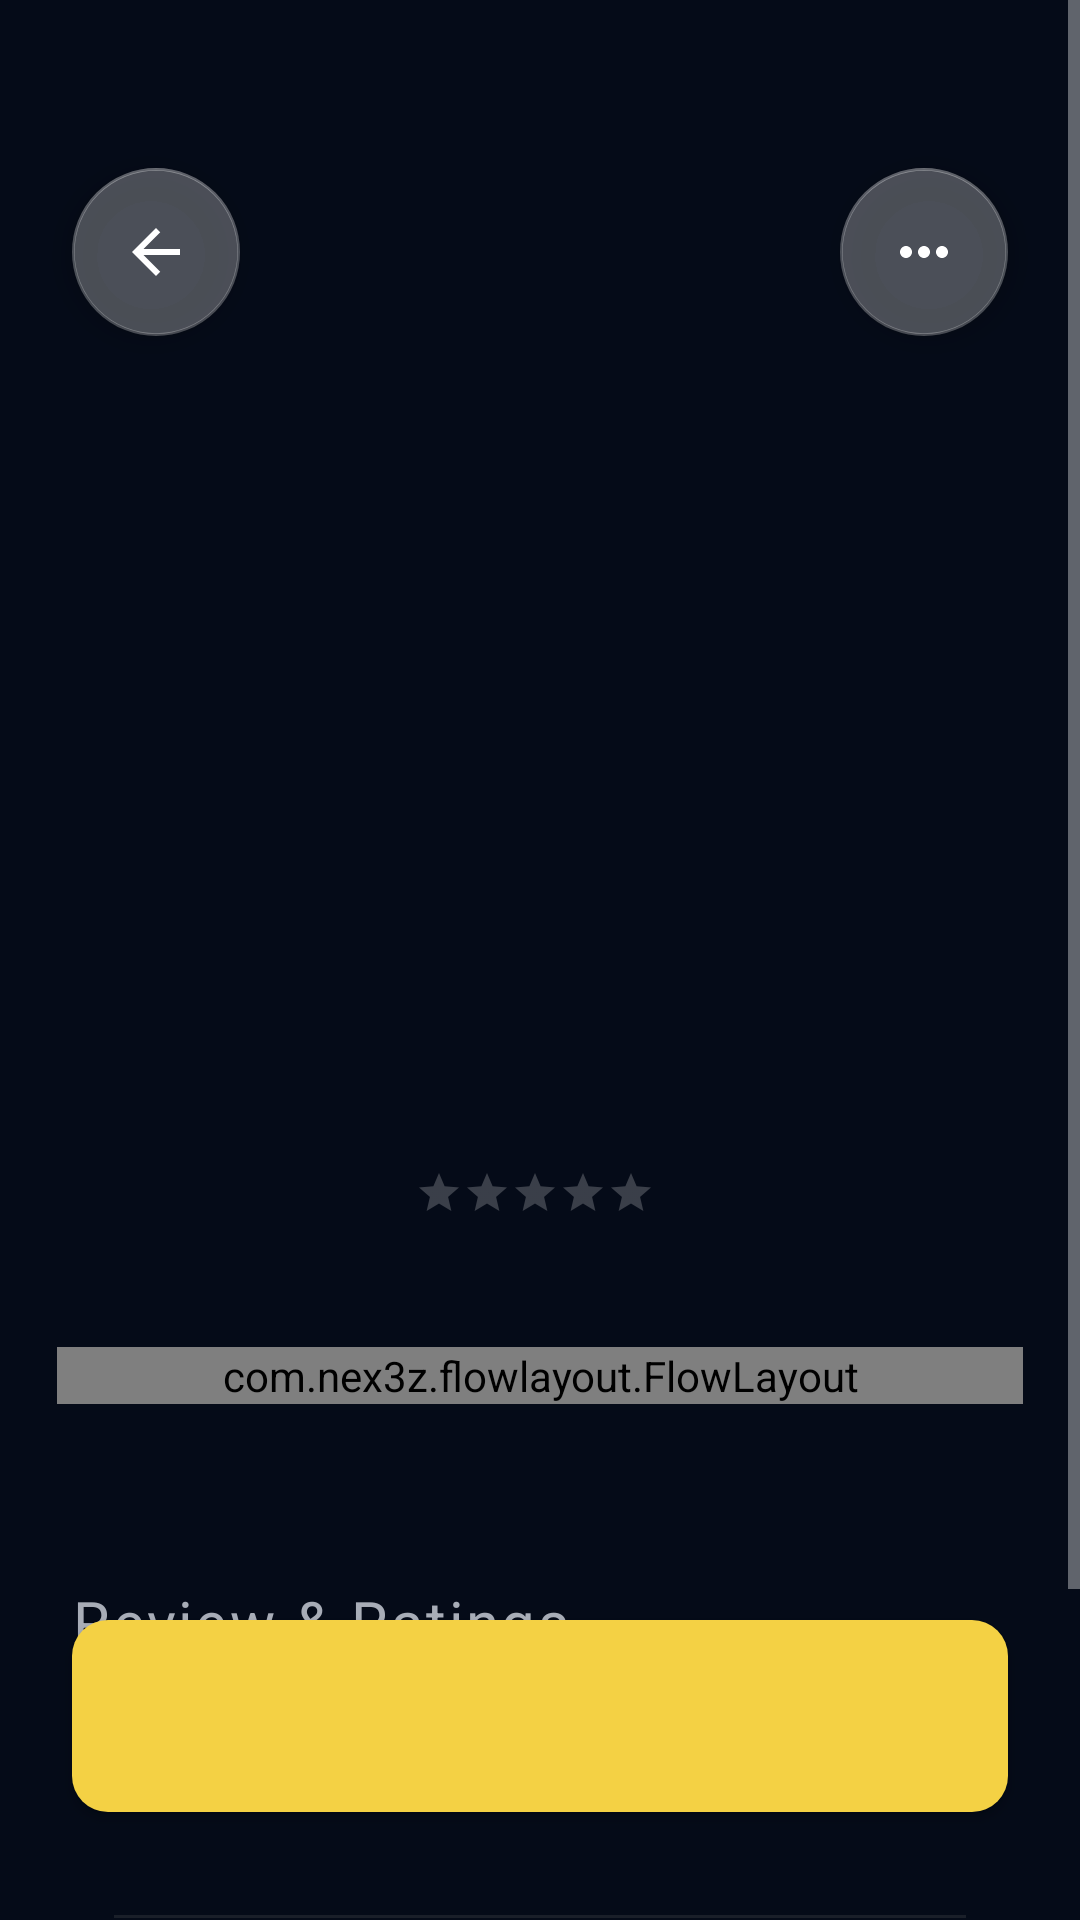

Icon click points for this 1080 × 1920 phone screenshot, format [x,y]:
Back button: [156,252]
Option button: [924,252]
